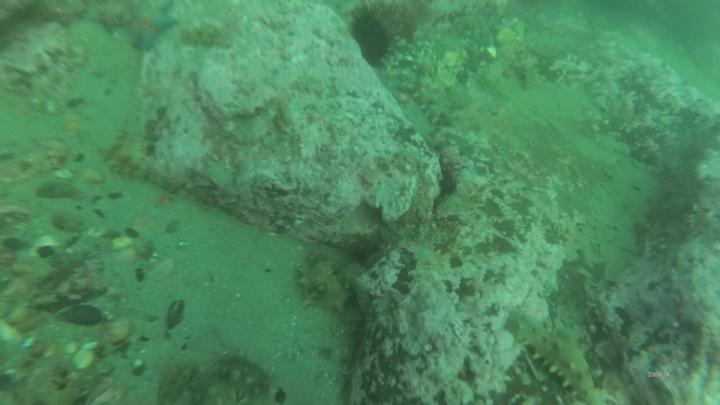echinus: (356, 19, 390, 63)
holothurian: (506, 313, 601, 405), (299, 254, 350, 304), (418, 88, 451, 126), (184, 26, 234, 51)
starfish: (132, 9, 175, 50)
